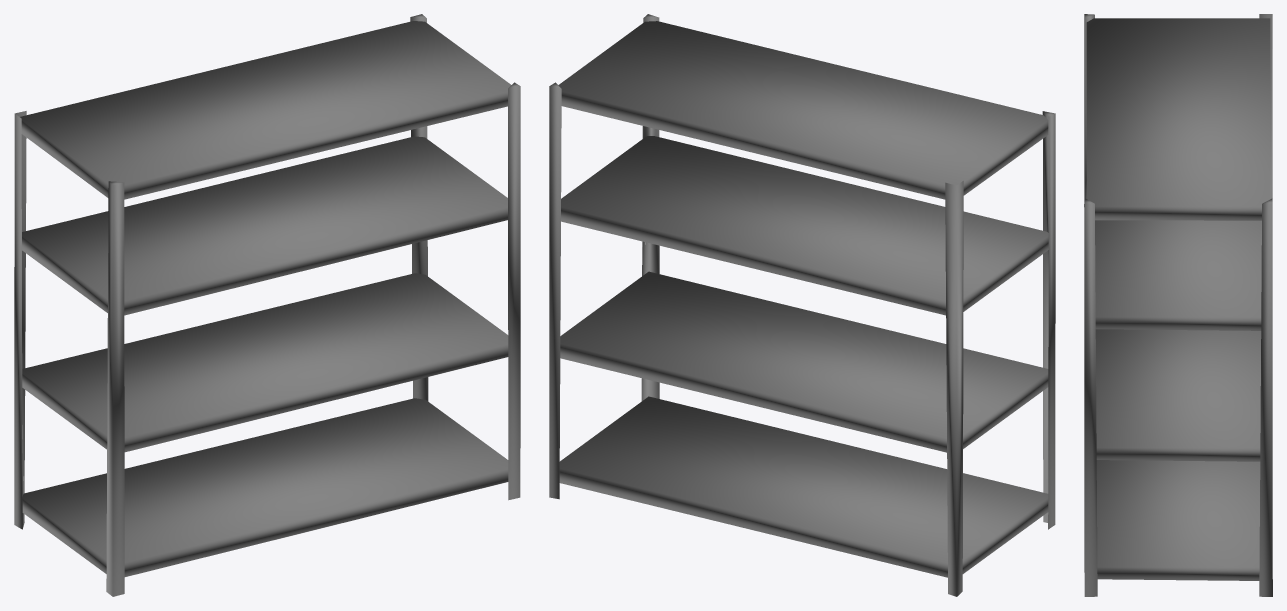
Rendered from shelve.fbx.
3 renders of one model, left to right at view 1: azimuth 30°, elevation 25°; view 2: azimuth 150°, elevation 25°; view 3: azimuth 270°, elevation 25°, orthographic. The views are drawn at different scales.
Visible parts, largest first — view 1: board.002; view 2: board.002; view 3: board.002.
Part boxes in pixels (x1,y1,x2,y2): board.002: (14,14,520,596); board.002: (549,14,1055,596); board.002: (1084,14,1272,596).
Bounding box in the file's own units: 294 × 283 × 123.
Materials: 1 (1 with a texture image).
